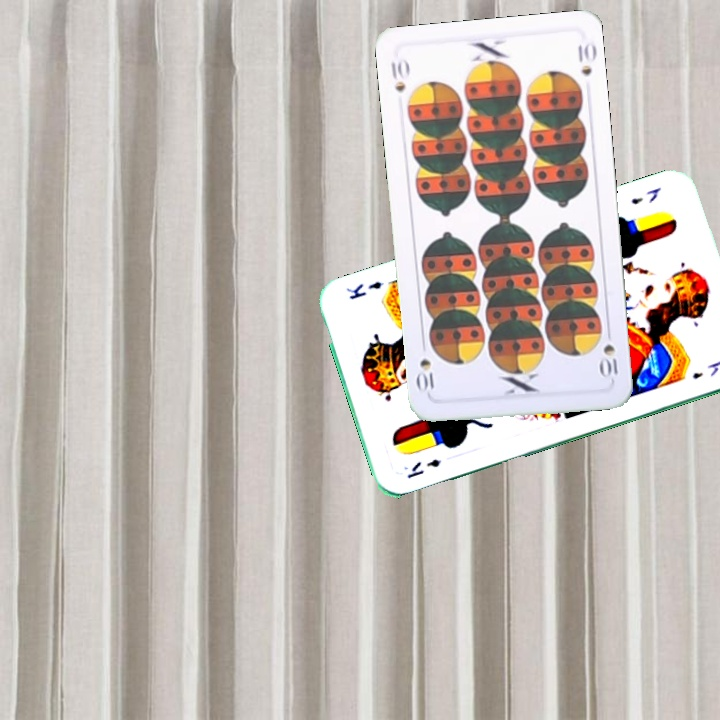EK: (403, 454, 444, 481), (627, 183, 663, 207)
S10: (597, 323, 621, 380), (387, 54, 411, 95)
